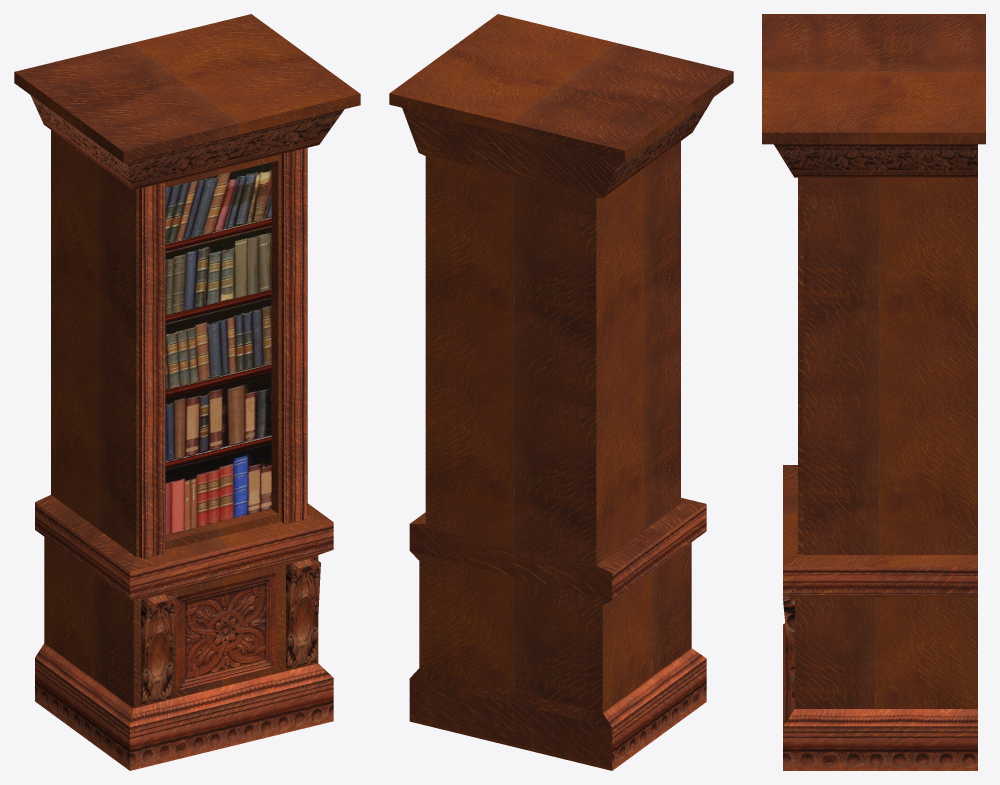
The model's file is Bookcase6.fbx.
3 renders of one model, left to right at view 1: azimuth 30°, elevation 25°; view 2: azimuth 150°, elevation 25°; view 3: azimuth 270°, elevation 25°, orthographic. The views are drawn at different scales.
Parts seen in each view (by area): view 1: Bookcase1.001; view 2: Bookcase1.001; view 3: Bookcase1.001.
Boxes of the visible parts, left/top/right/bottom form: Bookcase1.001: left=14, top=14, right=360, bottom=770; Bookcase1.001: left=389, top=14, right=733, bottom=770; Bookcase1.001: left=762, top=14, right=985, bottom=770.
Size of the model in its own units: 75.35 by 192 by 60.08.
